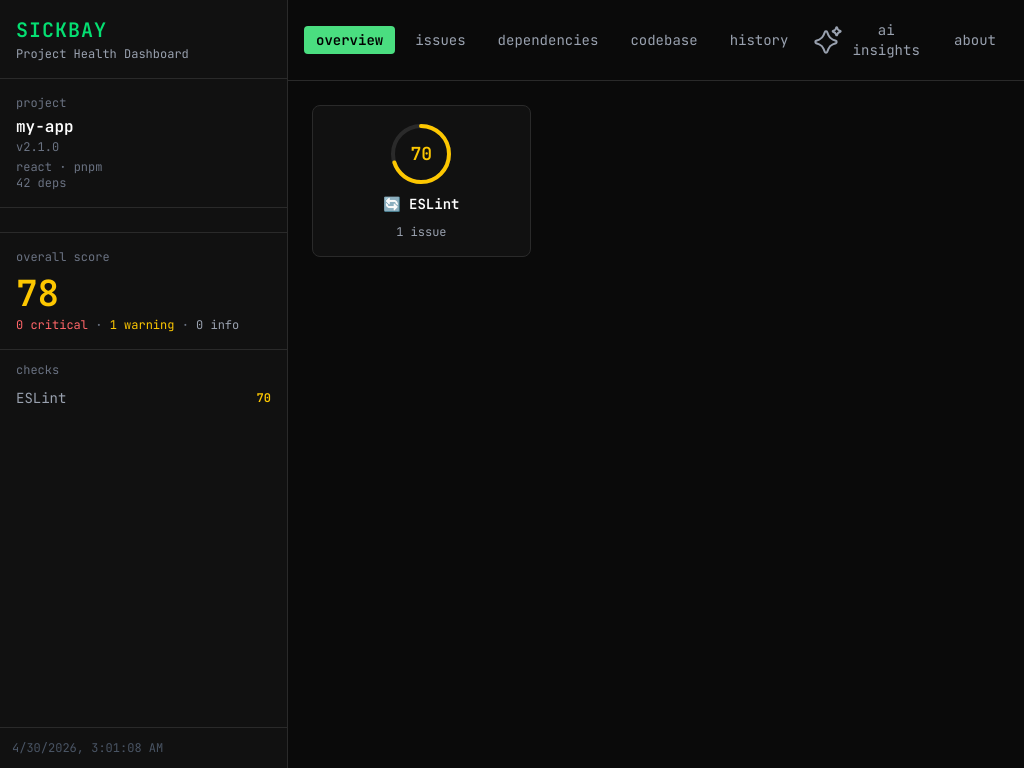
Scenario: Dashboard › navigates back to overview when "overview" is clicked
Click the button "issues": x=440, y=40 [403,26,478,54]
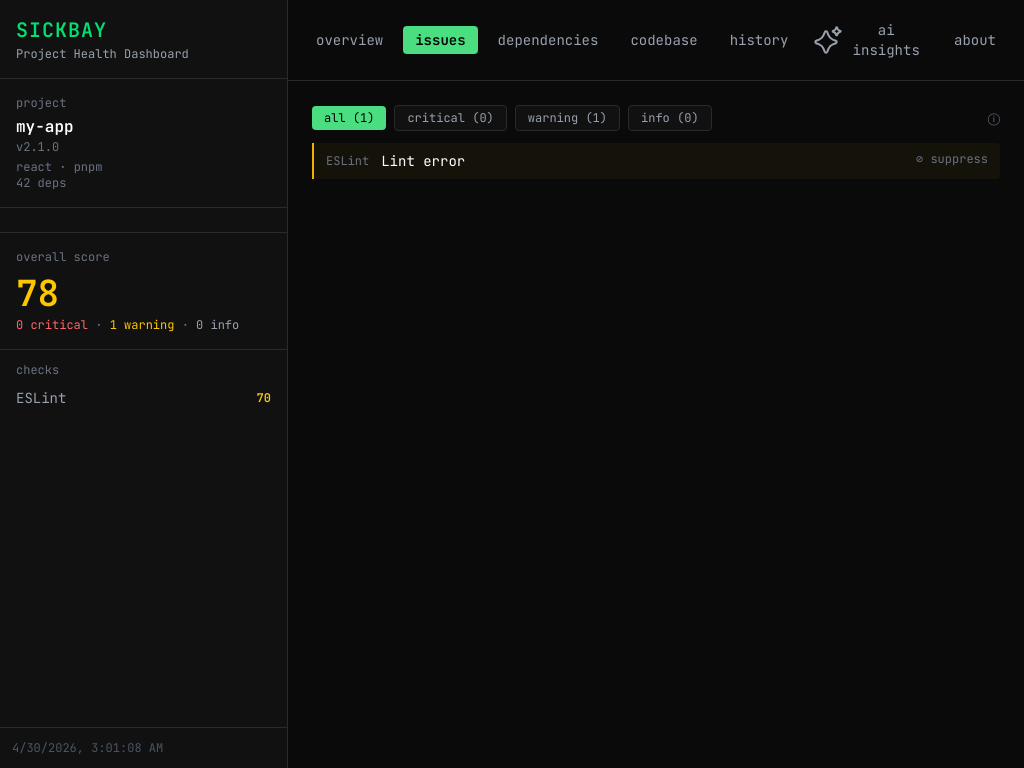
Click the button "overview": x=350, y=40 [304,26,395,54]
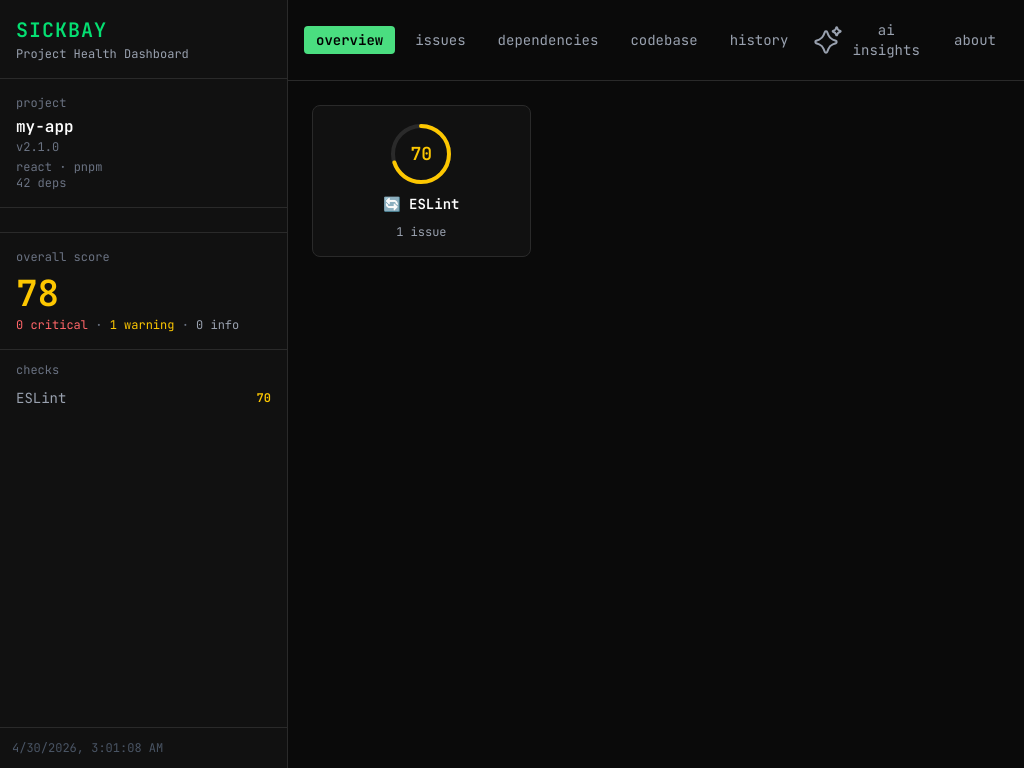
expect the text "Lint error" is gone: met
